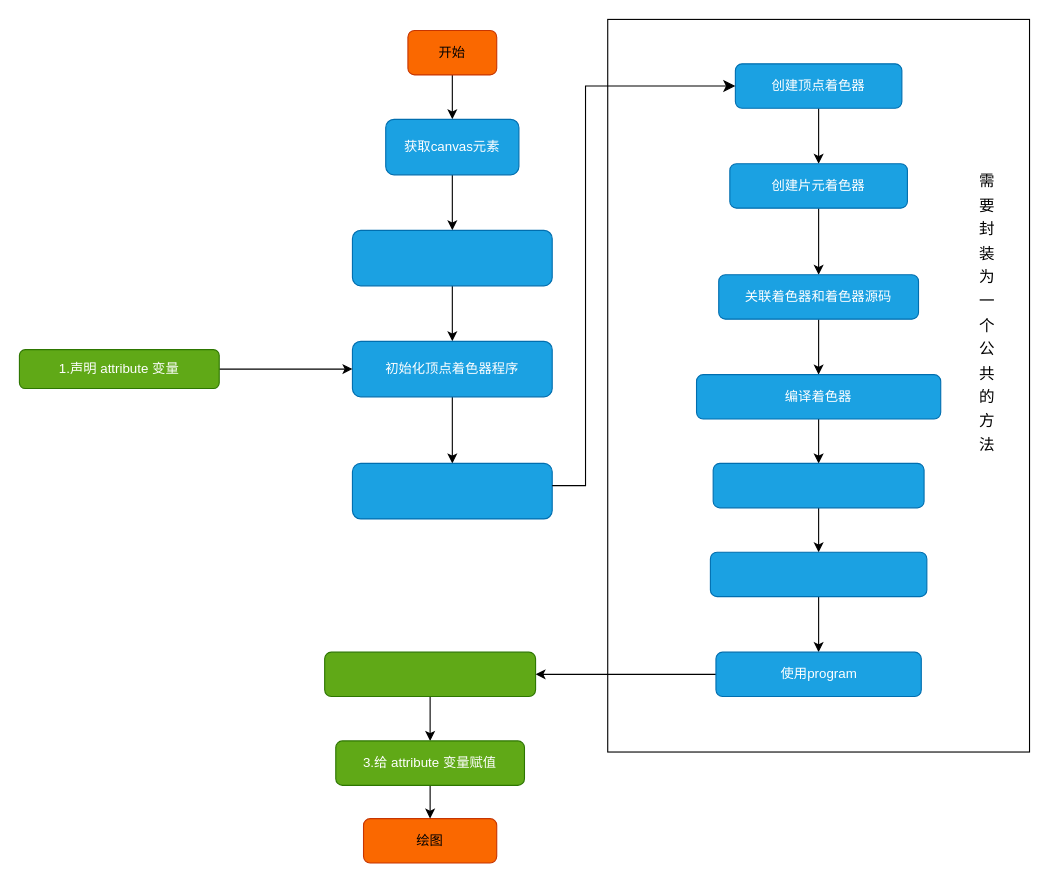
Some shapes in this 1049 by 882 pixel diagram are drawn without their labels. The shapes that lost their labels are listed below. From the top down, each one's centre as x and y in pixels, then its label:
At (451,257): "获取webgl绘图上下文".
At (451,490): "初始化片元着色器程序".
At (818,485): "创建program".
At (818,574): "关联着色器和program".
At (430,674): "2.获取 attribute 变量".
